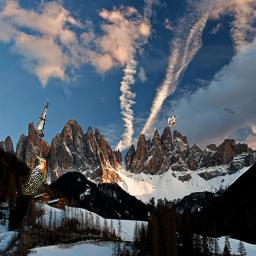Sparrow: (168, 116, 178, 127)
Swallow: (37, 98, 49, 138)
Woodpecker: (22, 155, 46, 195)
